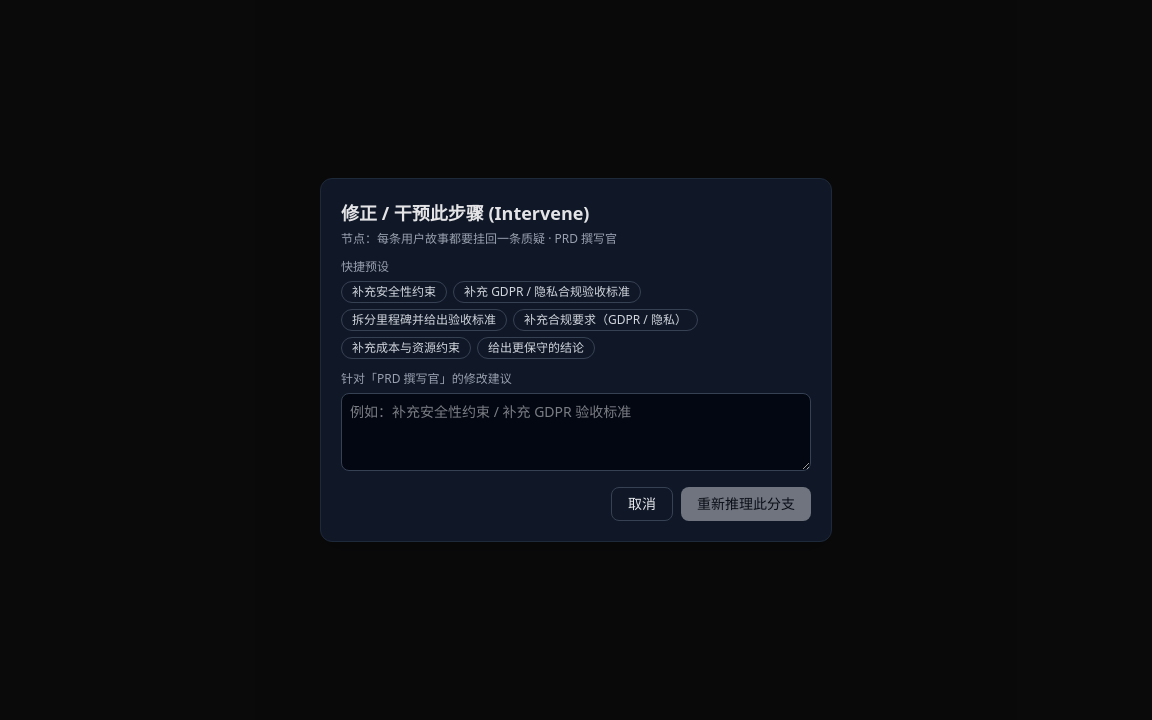
Test case: NodeInterventionModal 交互（jsdom） › 点击预设填入指令并启用提交
The width and height of the screenshot is (1152, 720).
Expected: the button "重新推理此分支" is disabled, left=681, top=487, right=811, bottom=521
What coordinates should you click on to do the following:
click the button "补充安全性约束"
I would click on:
 (394, 292)
Its box is left=341, top=281, right=447, bottom=303.
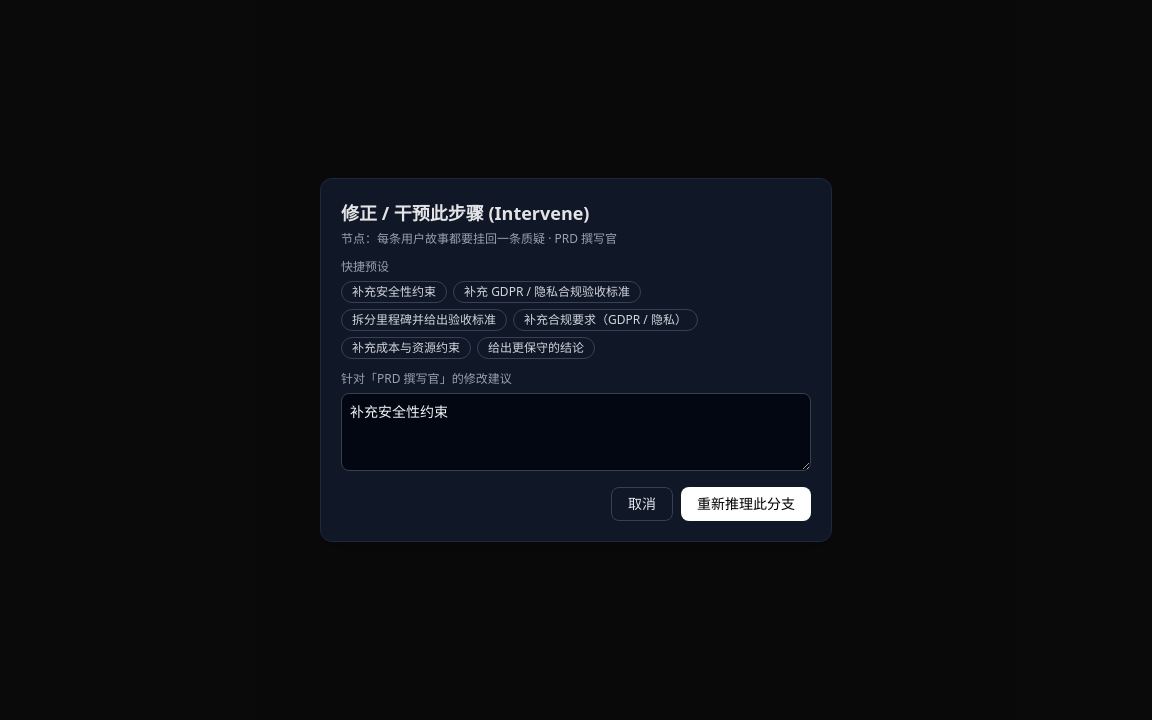
Expected: the text box labelled "针对「PRD 撰写官」的修改建议" holds "补充安全性约束", left=341, top=393, right=811, bottom=471
Expected: the button "重新推理此分支" is enabled, left=681, top=487, right=811, bottom=521
